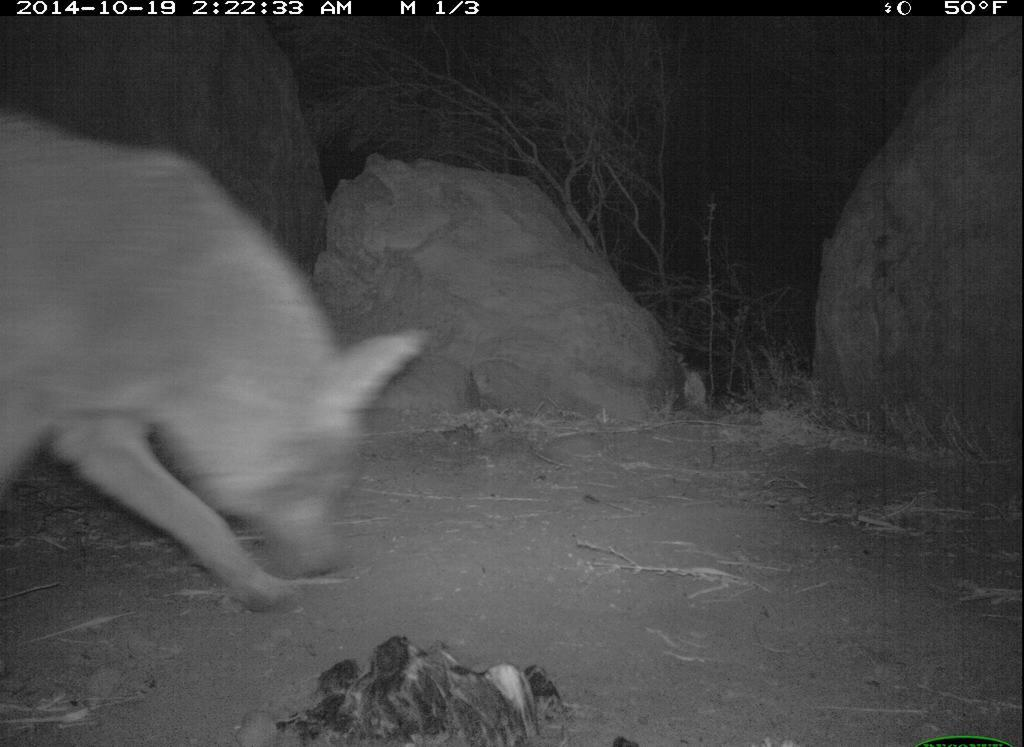coyote: (13, 112, 434, 619)
